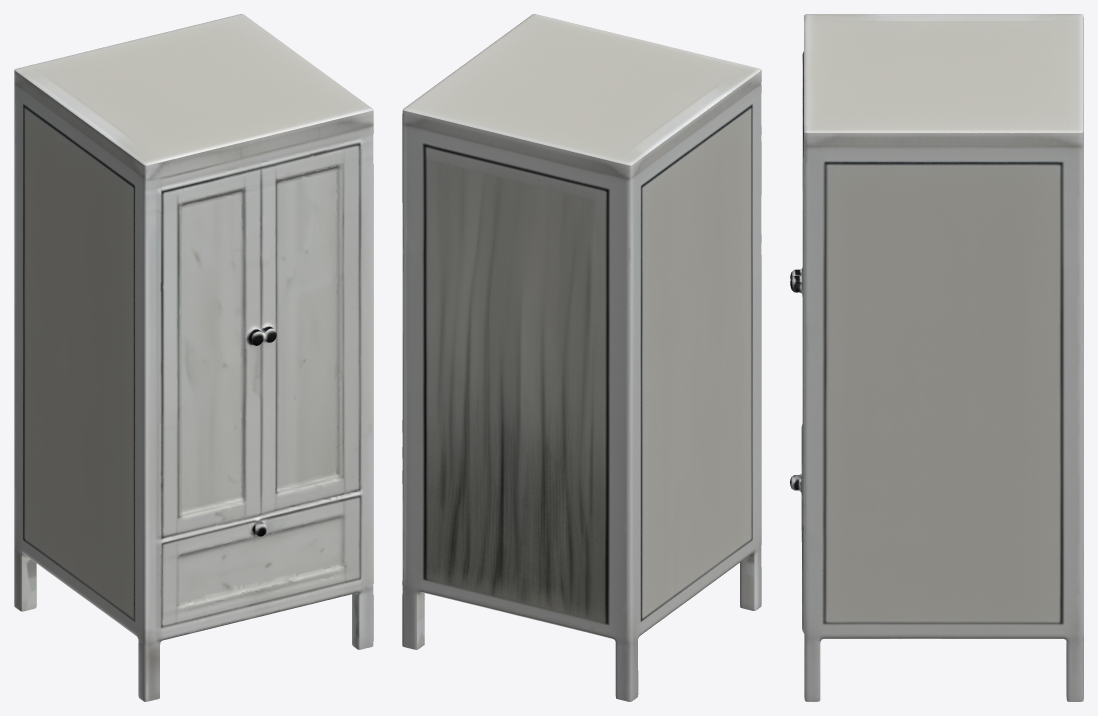
Rendered from wardrobe__wardrobe#4.glb.
The picture shows the model from 3 angles, left to right: view 1: azimuth 30°, elevation 25°; view 2: azimuth 150°, elevation 25°; view 3: azimuth 270°, elevation 25°; orthographic projection. The views are drawn at different scales.
Parts seen in each view (by area): view 1: tmpjhsieboq.ply; view 2: tmpjhsieboq.ply; view 3: tmpjhsieboq.ply.
Part boxes in pixels (<box>): tmpjhsieboq.ply: <box>14,14,373,701</box>; tmpjhsieboq.ply: <box>402,14,761,701</box>; tmpjhsieboq.ply: <box>790,14,1083,701</box>.
Bounding box in the file's own units: 0.8882 × 1.99 × 0.9276.
1 material, 1 textured.
